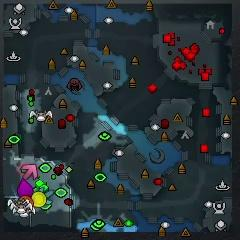p3: (17, 178, 33, 198)
p4: (30, 191, 47, 207)
p5: (18, 195, 34, 205)
x1: (22, 164, 38, 180)
x3: (40, 188, 54, 204)
